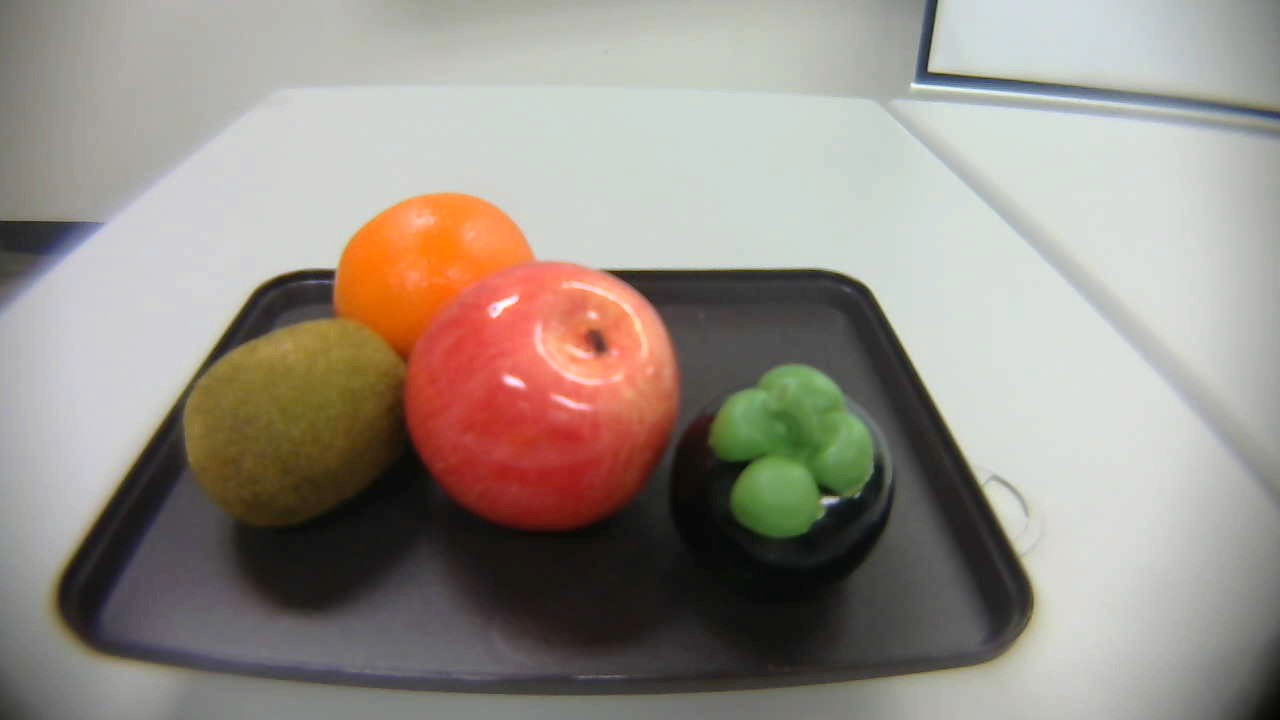kiwi fruit: (173, 316, 420, 531)
mangosteen: (658, 358, 904, 586)
orange: (317, 191, 543, 371)
red apple: (398, 261, 688, 534)
